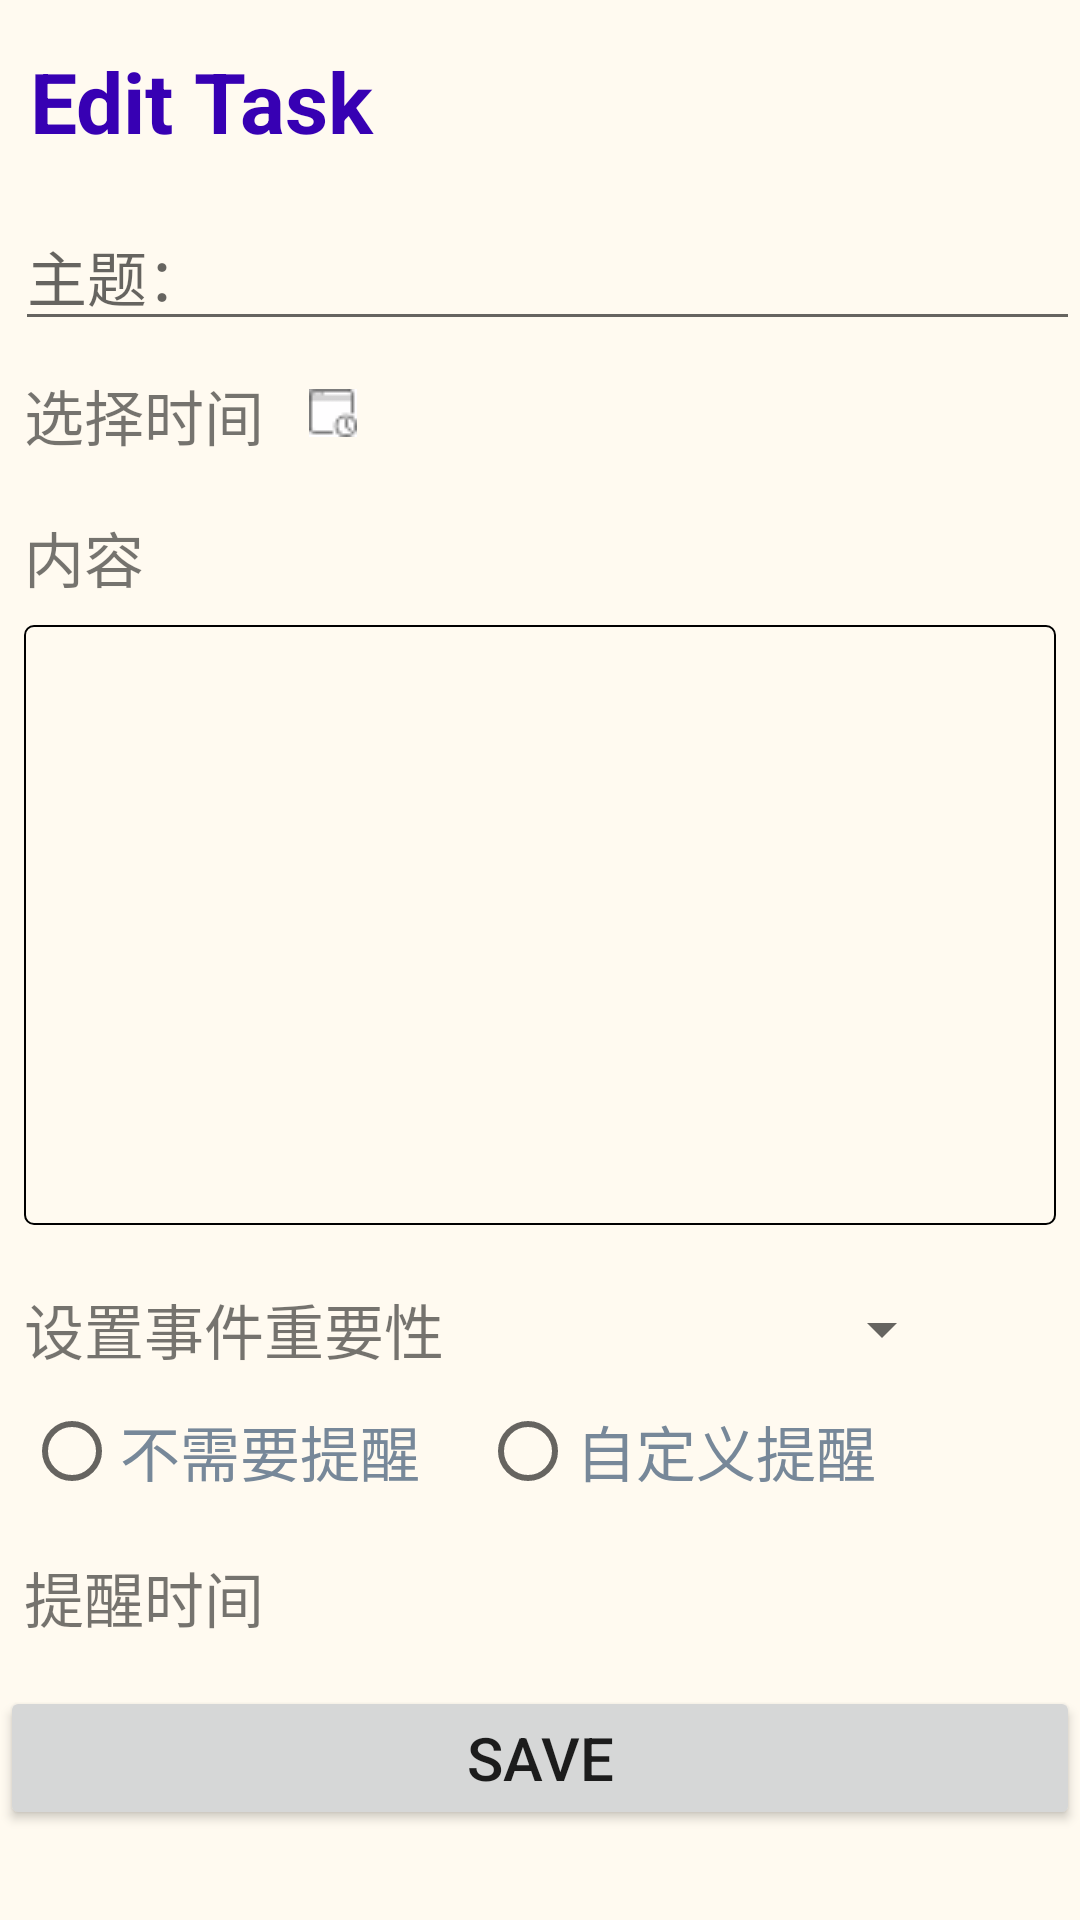

Named icons in this screenshot (1080×1920) and their centers, (x=x, y=y):
choose time: (x=333, y=413)
